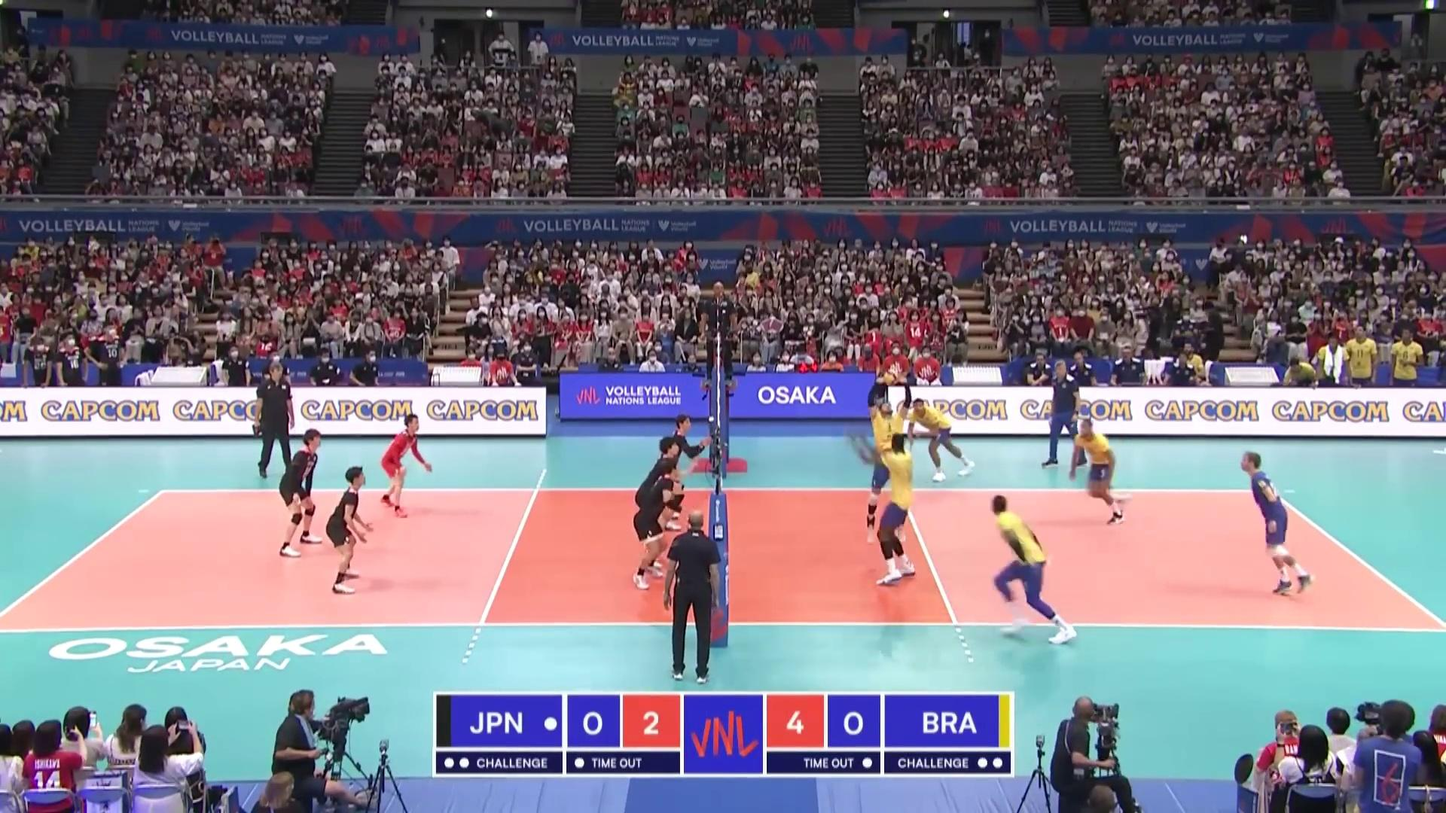player: (984, 496, 1071, 644), (1240, 451, 1317, 594), (865, 379, 912, 544), (867, 434, 914, 587), (323, 466, 377, 591), (1074, 415, 1132, 524), (632, 461, 679, 592), (634, 437, 681, 567), (278, 428, 324, 556), (380, 414, 434, 516), (658, 410, 703, 531), (912, 398, 976, 481)
refree: (665, 509, 724, 682), (703, 282, 738, 388)
